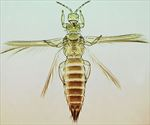Thripidae: (1, 1, 150, 123)
